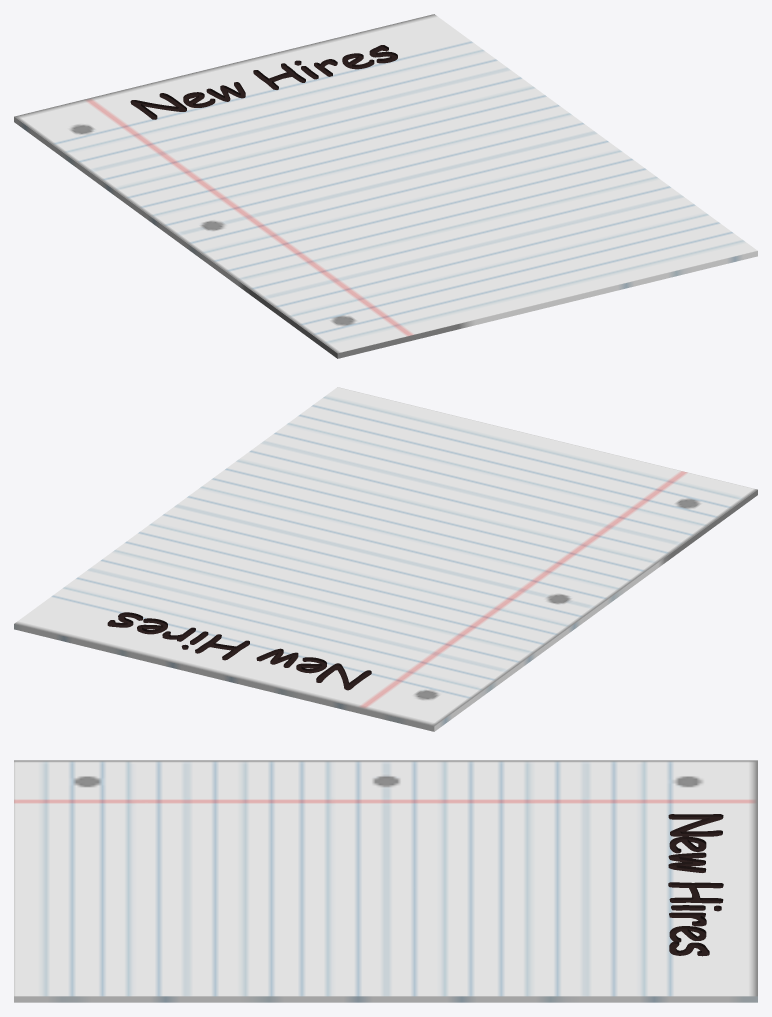
The model's file is Note.glb.
3 renders of one model, top to bottom at view 1: azimuth 30°, elevation 25°; view 2: azimuth 150°, elevation 25°; view 3: azimuth 270°, elevation 25°, orthographic. The views are drawn at different scales.
Parts seen in each view (by area): view 1: Cube; view 2: Cube; view 3: Cube.
Part boxes in pixels (left/top/right/bottom): Cube: left=14, top=14, right=757, bottom=358; Cube: left=14, top=387, right=757, bottom=731; Cube: left=14, top=760, right=757, bottom=1002.
Size of the model in its own units: 0.2286 by 0.00407 by 0.3048.
2 materials, 1 textured.
